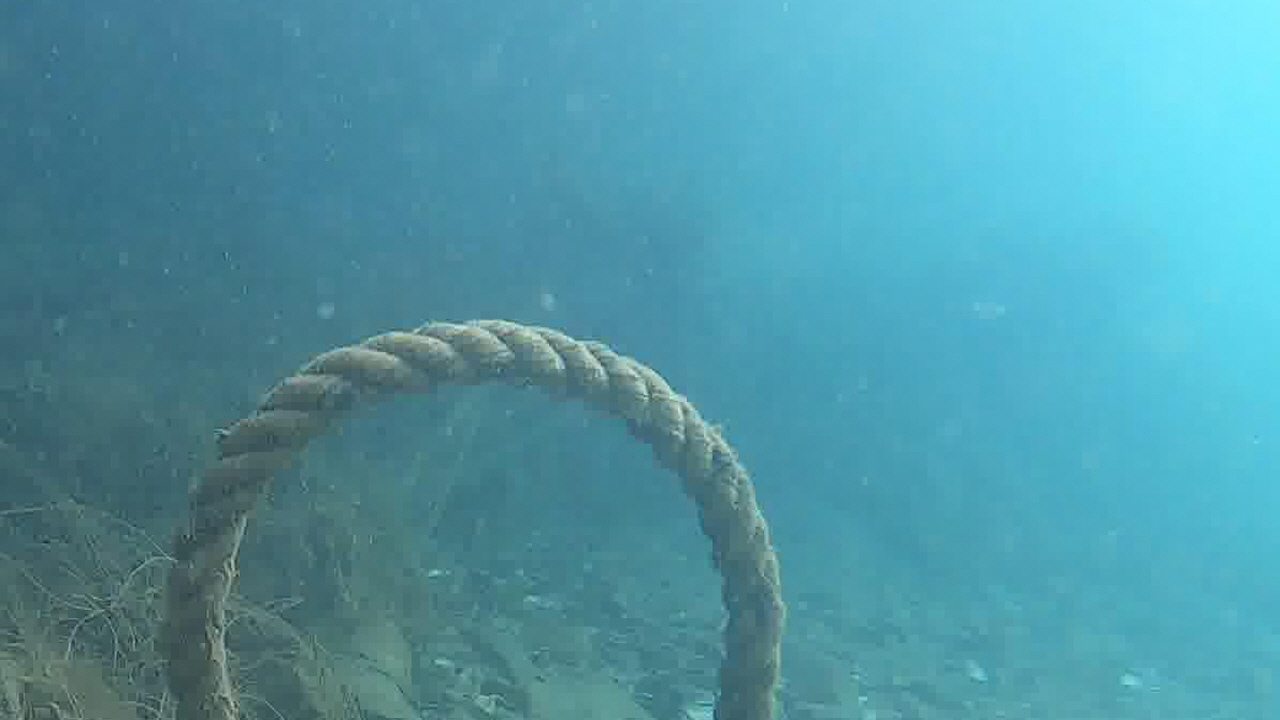rope: (162, 318, 786, 720)
